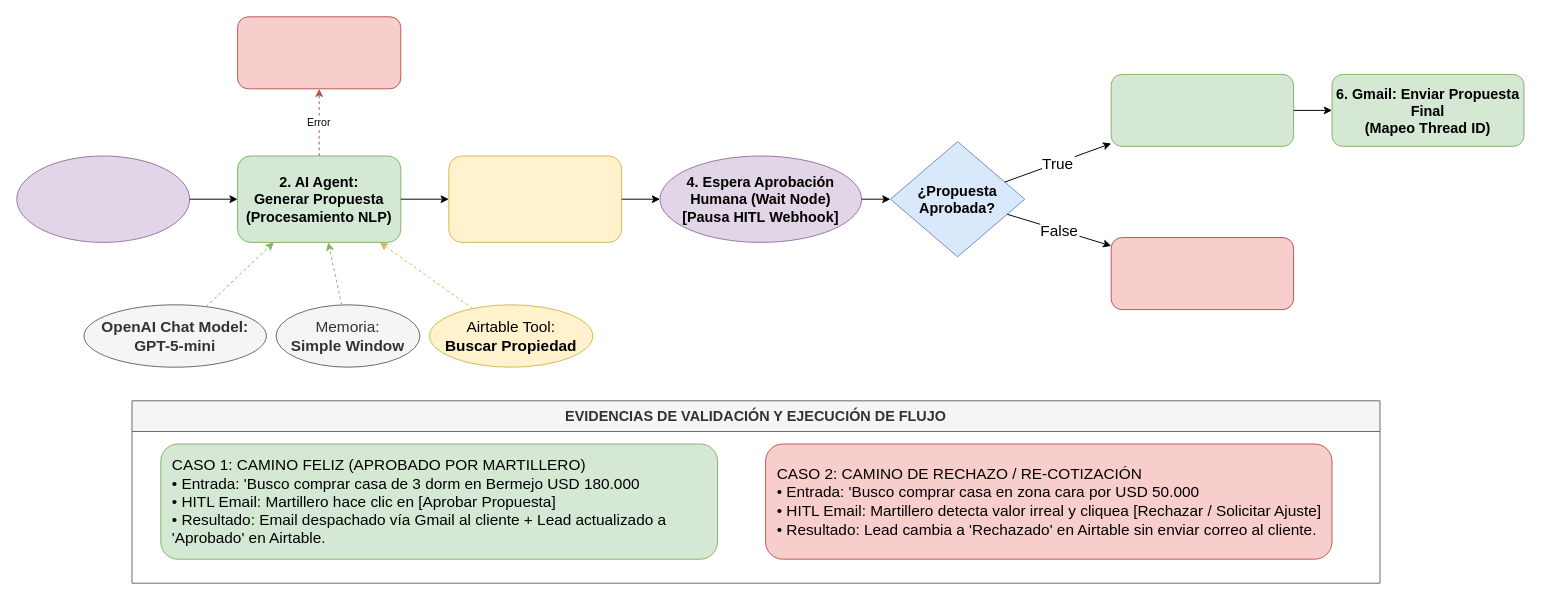
Some shapes in this 1541 by 600 pixel diagram are drawn without their labels. Here are the shapes that lost their labels. From the top down, the centre of each, then its label:
the point at 319,52: Airtable: Registrar Error (Update Record)
the point at 1202,109: 5a. Airtable: Marcar Aprobado (Estado: Aprobado)
the point at 103,198: 1. Airtable Trigger: Nuevo Lead (Estado: Pendiente)
the point at 535,198: 3. Airtable: Guardar Borrador IA (Estado: Esperando Aprobación)
the point at 1202,273: 5b. Airtable: Marcar Rechazado (Estado: Rechazado)
